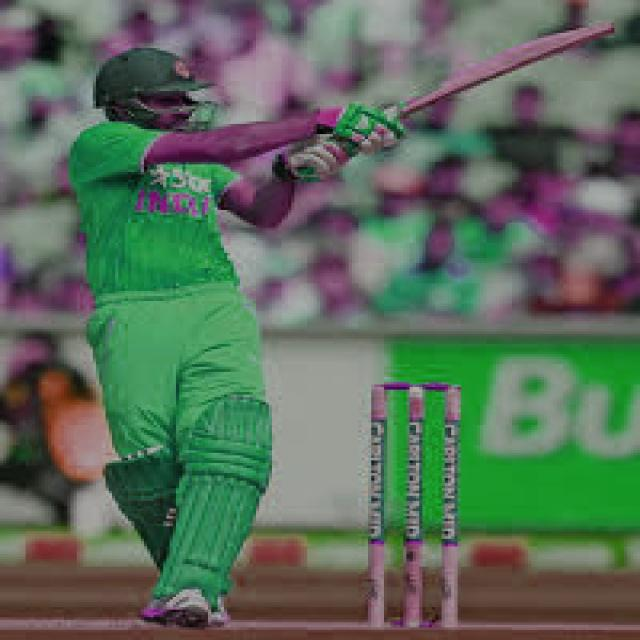toe: (584, 13, 624, 46)
